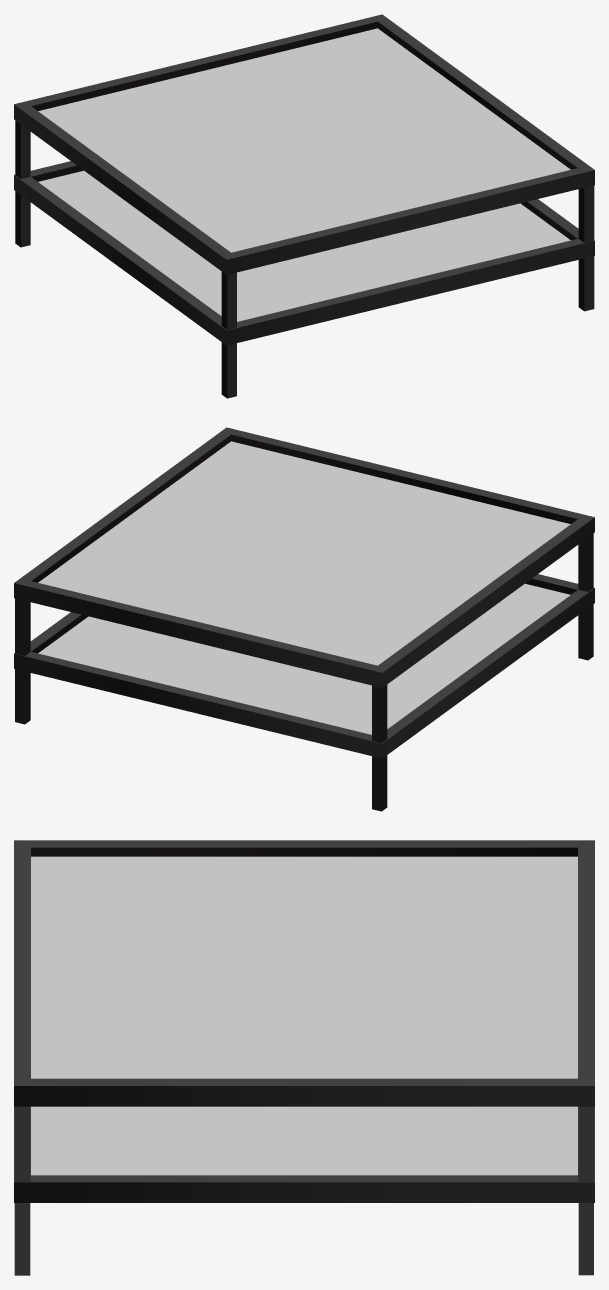
The model's file is M_chaji02.FBX.
The picture shows the model from 3 angles, top to bottom: view 1: azimuth 30°, elevation 25°; view 2: azimuth 150°, elevation 25°; view 3: azimuth 270°, elevation 25°; orthographic projection. The views are drawn at different scales.
Parts seen in each view (by area): view 1: M_chaji02_02, M_chaji02_01; view 2: M_chaji02_02, M_chaji02_01; view 3: M_chaji02_02, M_chaji02_01.
Part boxes in pixels (x1,y1,x2,y2): M_chaji02_02: [38, 28, 570, 321]; M_chaji02_01: [14, 14, 594, 398]; M_chaji02_02: [38, 441, 570, 734]; M_chaji02_01: [14, 427, 594, 811]; M_chaji02_02: [31, 856, 577, 1175]; M_chaji02_01: [14, 840, 594, 1275].
Size of the model in its own units: 1.61 by 0.581 by 1.61.
